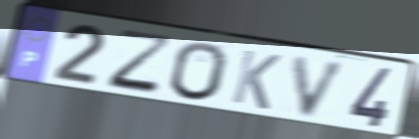2: (50, 23, 111, 89)
4: (347, 66, 392, 130)
K: (229, 47, 284, 113)
O: (168, 40, 230, 104)
V: (290, 53, 351, 121)
Z: (104, 27, 177, 99)
